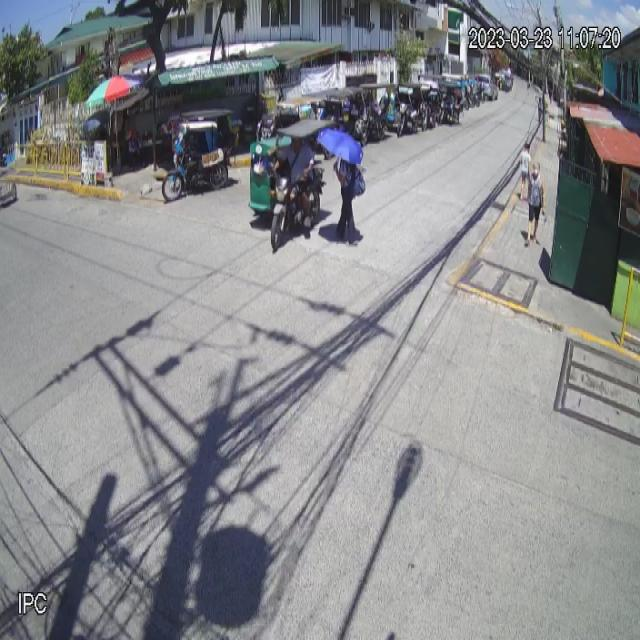Tricycle: (249, 118, 336, 250), (160, 106, 236, 202)
